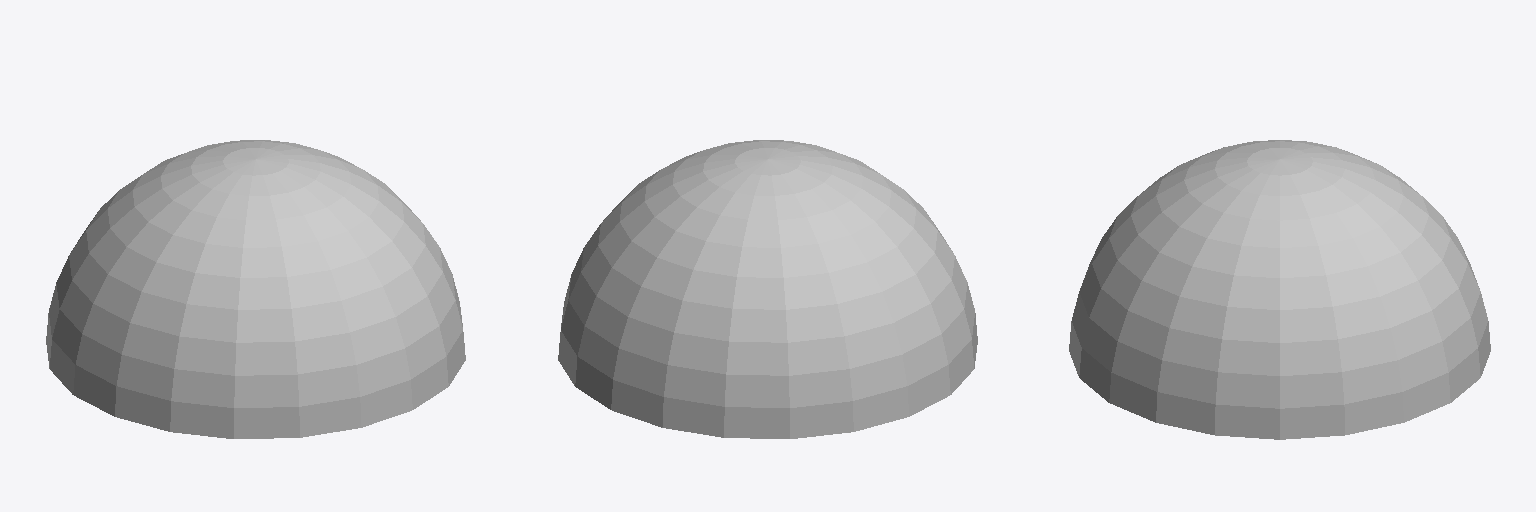
The model's file is Super Training Stage.obj.
3 views of the same model, side by side, from view 1: azimuth 30°, elevation 25°; view 2: azimuth 150°, elevation 25°; view 3: azimuth 270°, elevation 25° (orthographic).
Visible parts, largest first — view 1: sky; view 2: sky; view 3: sky.
Boxes of the visible parts, box(x1,y1,x2,y2) form: sky: box(46, 140, 465, 438); sky: box(558, 140, 977, 438); sky: box(1069, 140, 1490, 439).
Bounding box in the file's own units: 41.48 × 20.95 × 41.48.